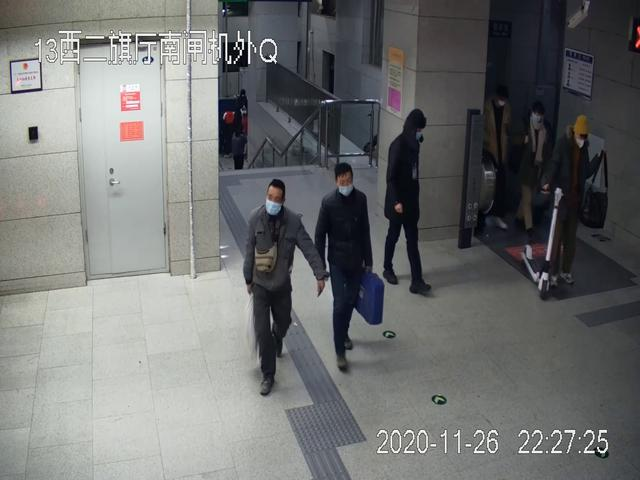person: (242, 178, 327, 398), (316, 163, 383, 374), (383, 110, 433, 296), (544, 115, 594, 285)
